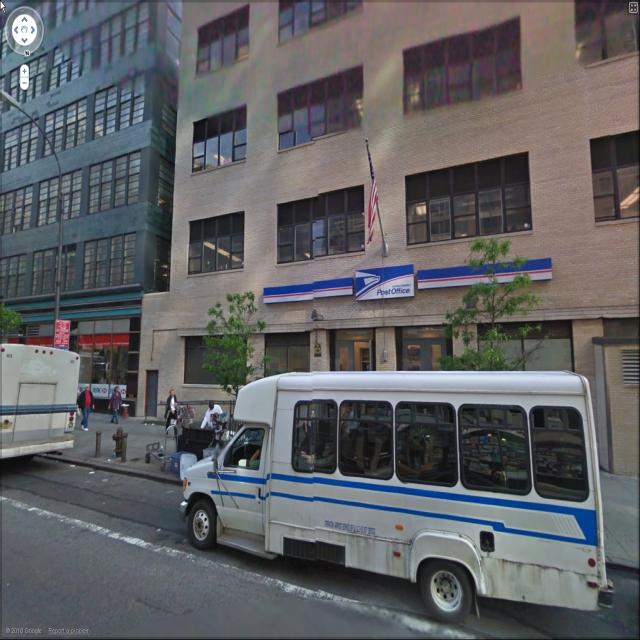b_1: (152, 2, 637, 368), (14, 2, 171, 328)
b_2: (145, 6, 640, 411)
